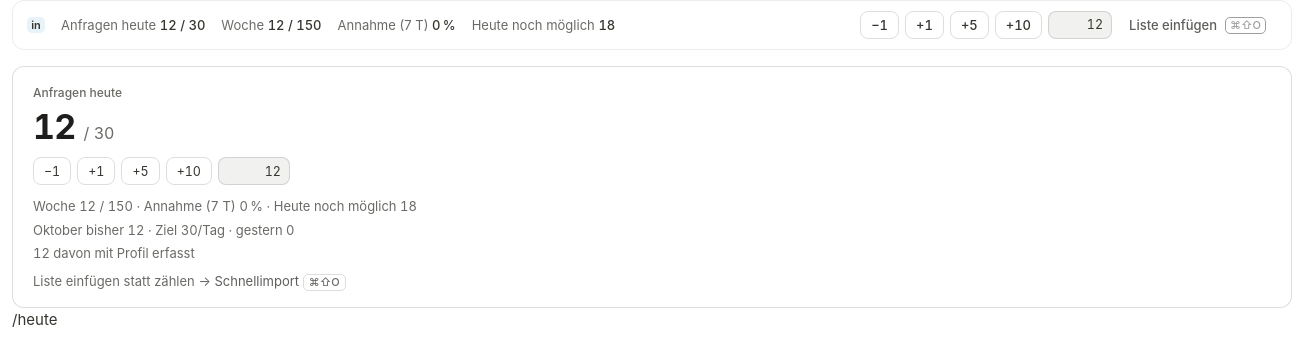
Test: Tageszähler › H-11: Direkteingabe 40 bei 12 getrackten setzt den manuellen Anteil auf 28
expect the text "12 davon mit Profil erfasst" is shown: met, box top-left (33, 198), bottom-right (417, 291)
Replace the text in the 2nd field named "Zähler setzen" with "40": (254, 171) top-left (227, 162), bottom-right (281, 181)
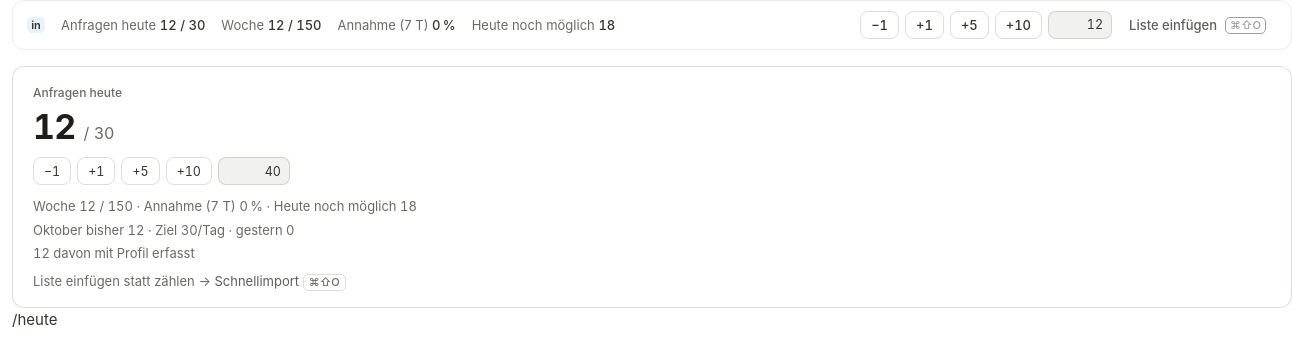
Leave the 2nd field named "Zähler setzen", box top-left (227, 162), bottom-right (281, 181)
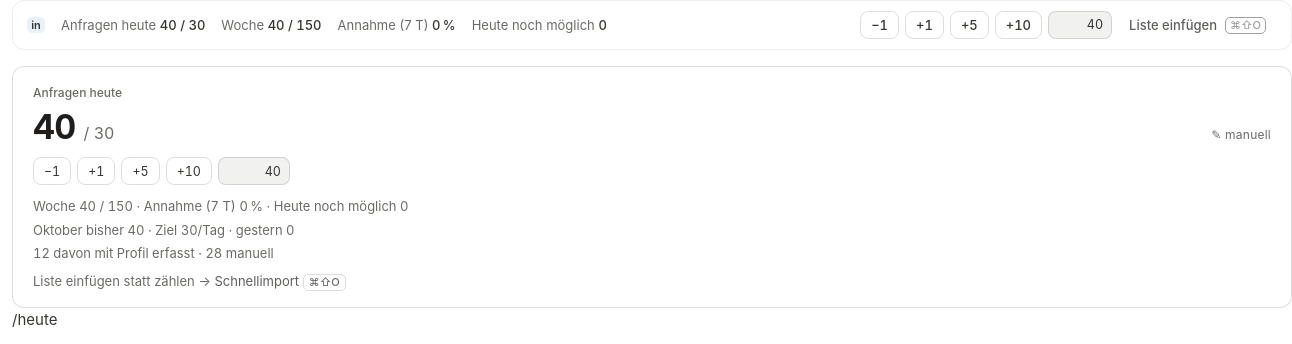
expect the text "12 davon mit Profil erfasst · 28 manuell" is shown: met, box top-left (33, 198), bottom-right (408, 291)
